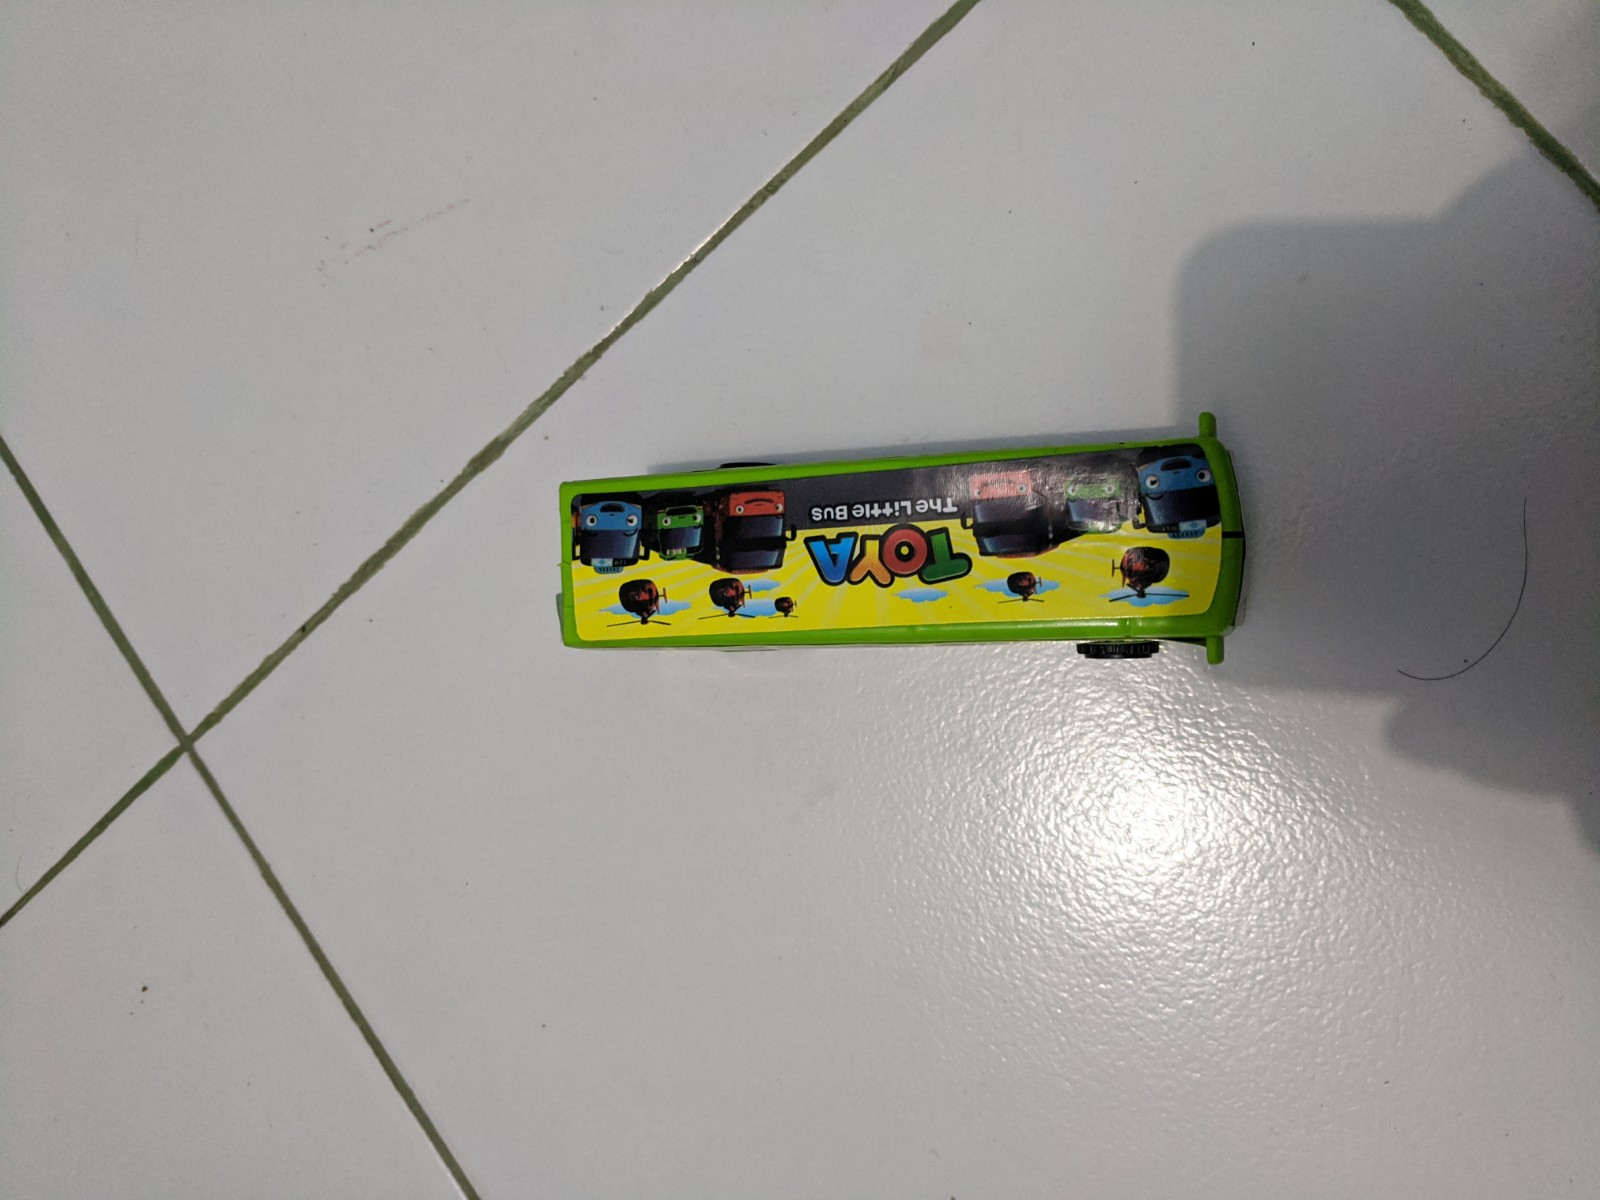bus: (528, 450, 1250, 679)
